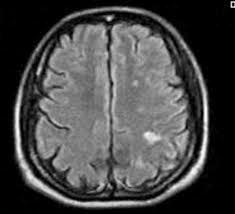Normal_Brain: (2, 1, 235, 214)
